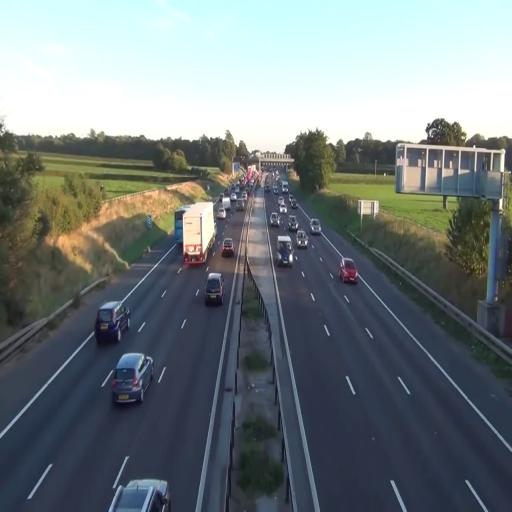vehicle: (108, 476, 170, 512), (112, 352, 153, 406), (182, 202, 215, 267), (182, 202, 214, 266), (95, 301, 129, 345), (182, 205, 205, 266), (276, 234, 294, 267), (205, 274, 223, 306), (340, 256, 358, 285), (222, 238, 236, 258), (297, 230, 308, 249), (270, 210, 280, 228), (311, 218, 320, 234)
